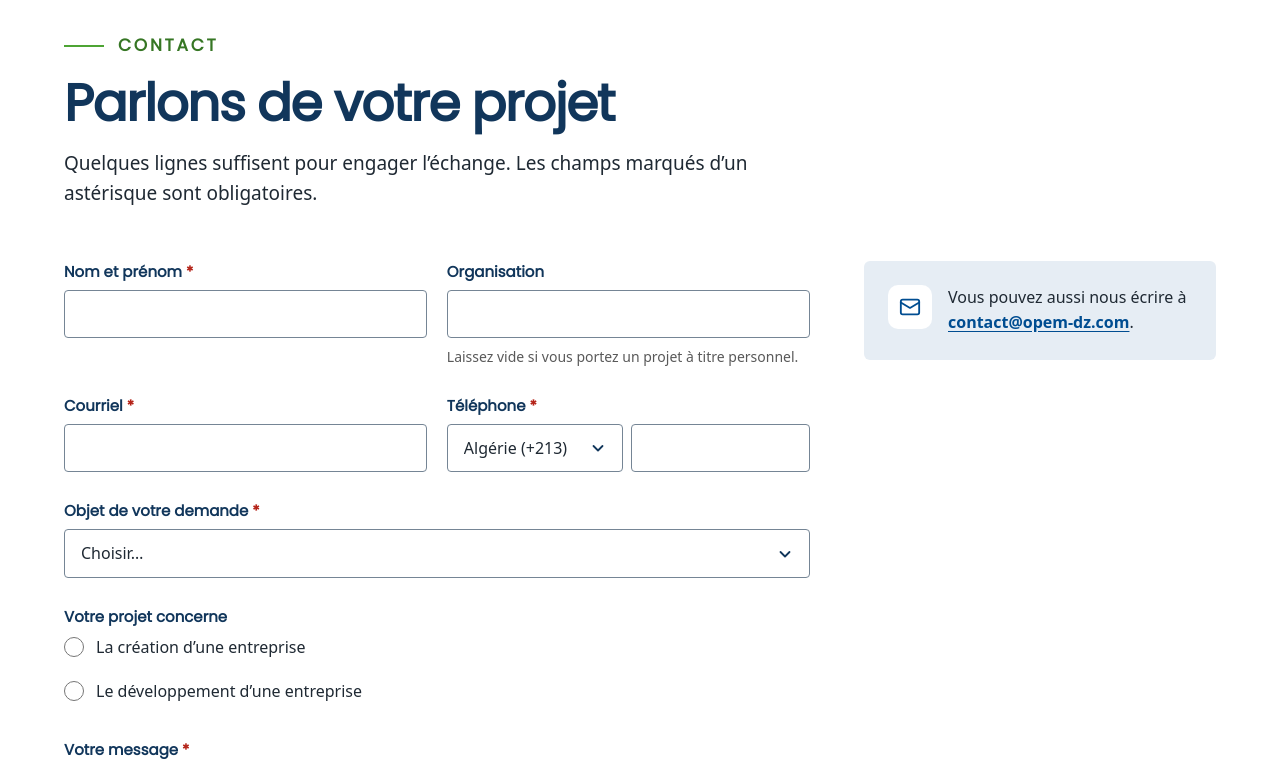
it: Formulaire 1 : demande de rendez-vous › erreurs sous les champs obligatoires, sans effacer les saisies
Type "Amina Benali" into the field labelled "Nom et prénom*" at (245, 314), box [64,290,427,338]
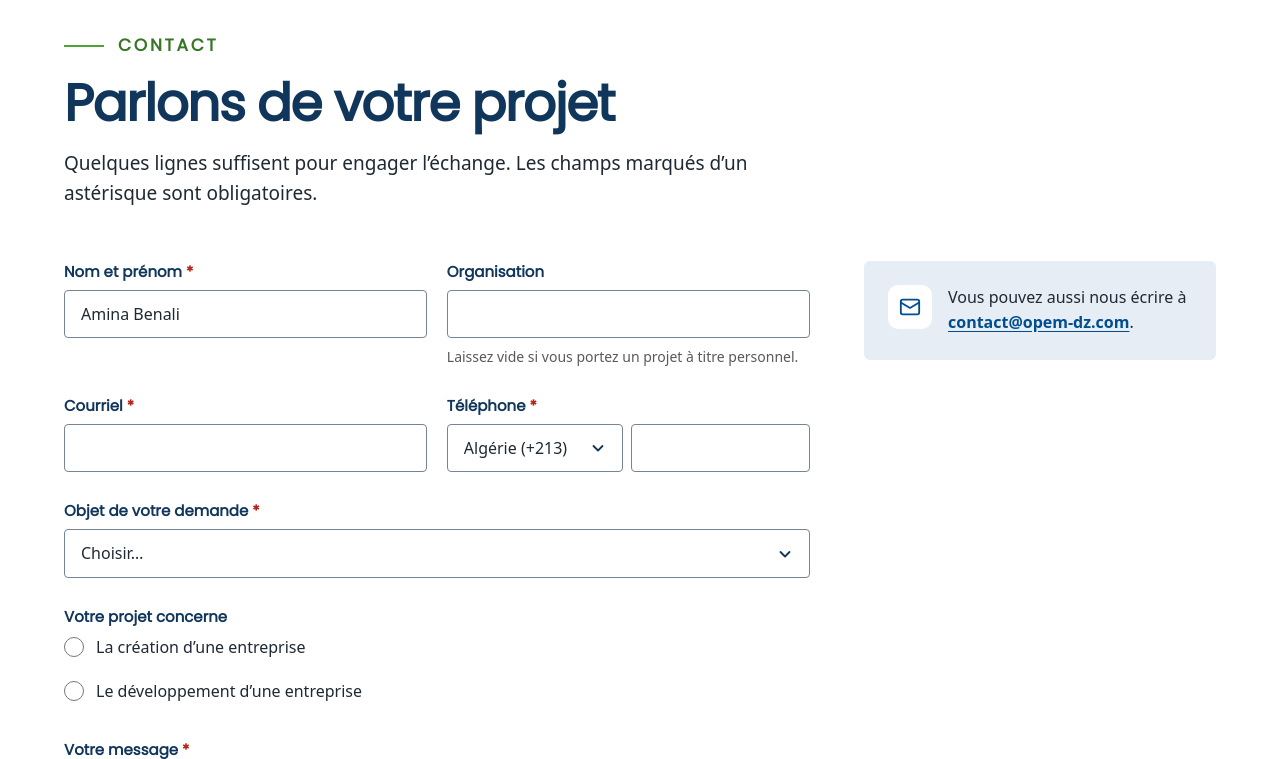
Type "amina@" into the field labelled "Courriel*" at (245, 448), box [64,424,427,472]
(page scrolled)
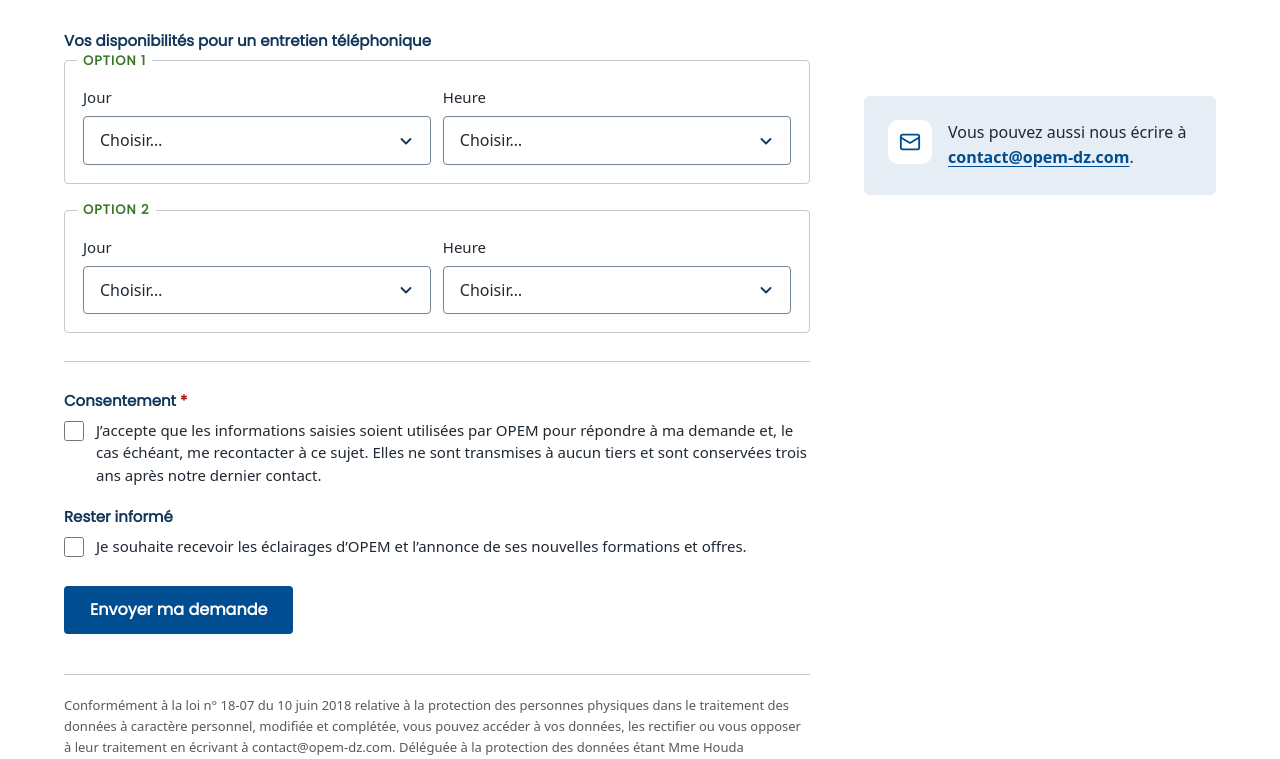
Click the button "Envoyer ma demande" at (179, 610), box [64,586,293,634]
(page scrolled)
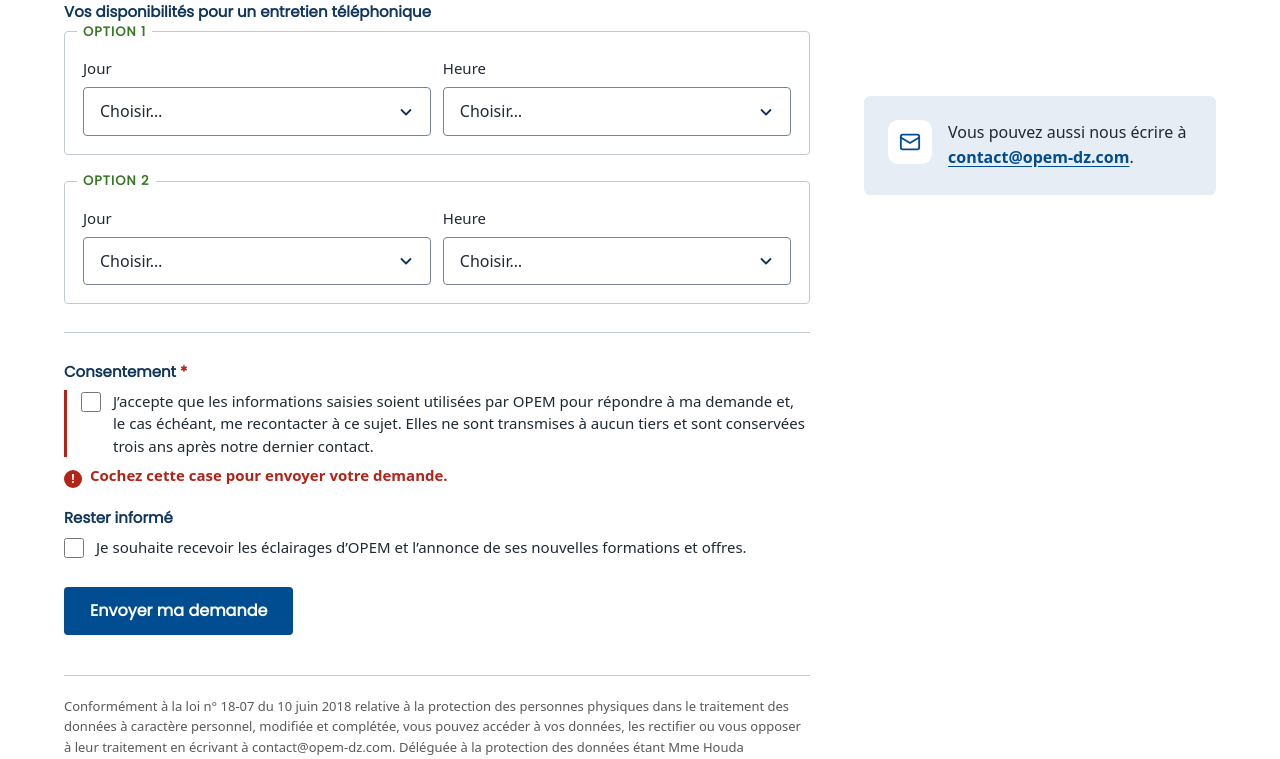
Expected: the text "Cochez cette case pour envoyer votre demande." is shown, [90,465,448,485]
